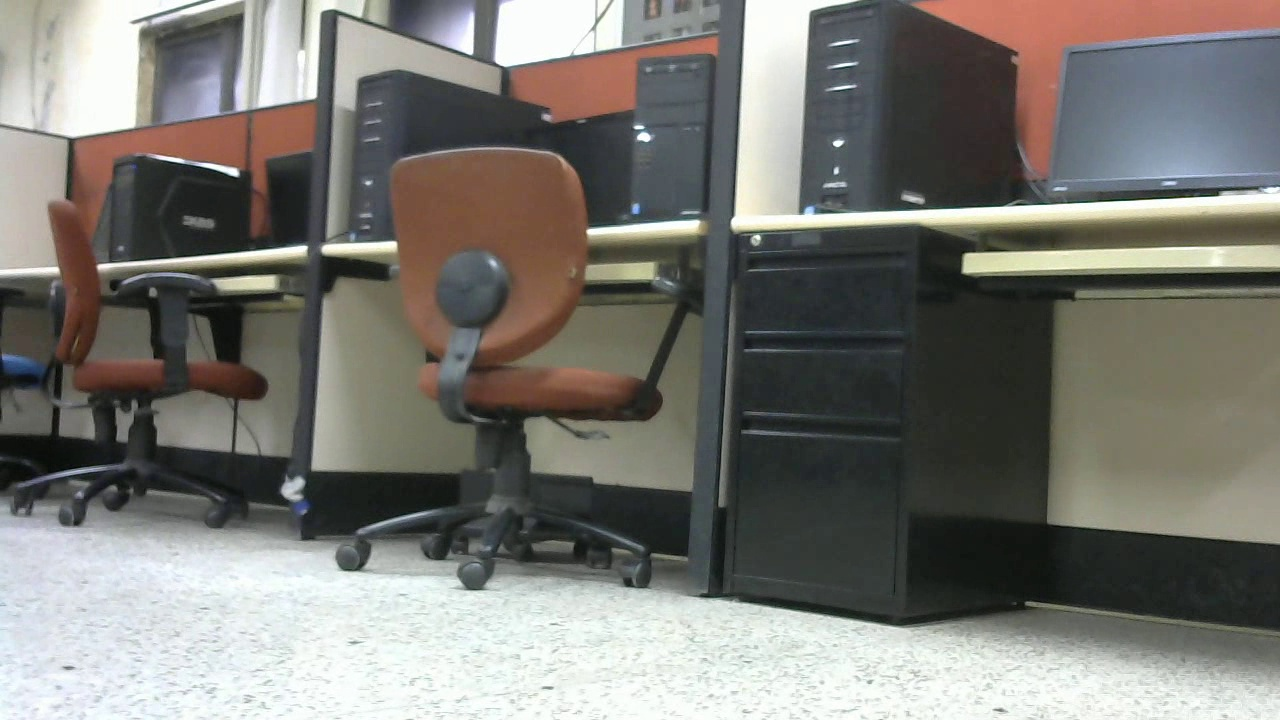chair: (329, 146, 693, 591), (10, 196, 270, 534)
